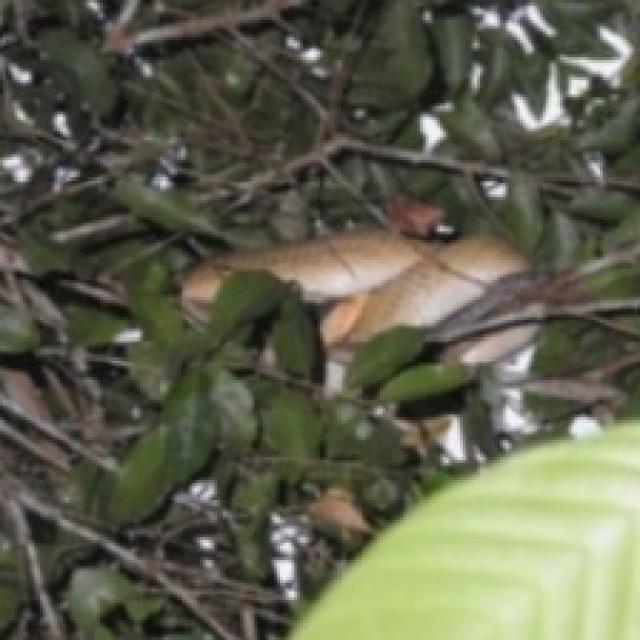red-tailed green ratsnake: (180, 231, 526, 391)
